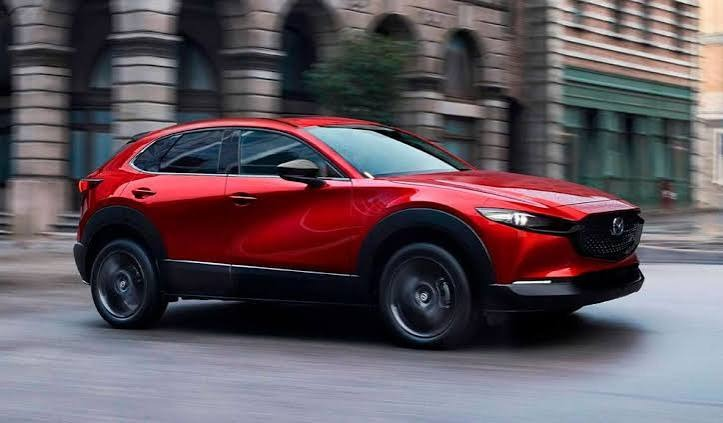car: (67, 111, 646, 350)
